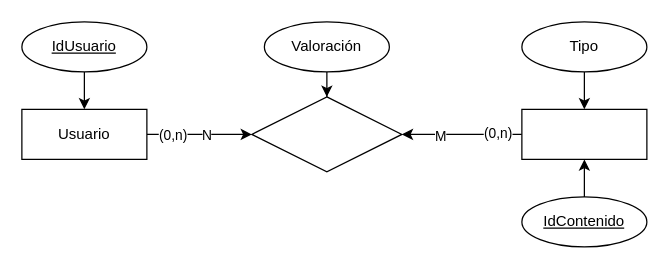
The diagram is 669 pixels wide and 269 high, and some of its shapes have lost their labels. Here are the shapes that lost their labels. From the top down, the centre of each, then its label:
At pixel 326 134: "Ha Visto".
At pixel 584 133: "Contenido".
